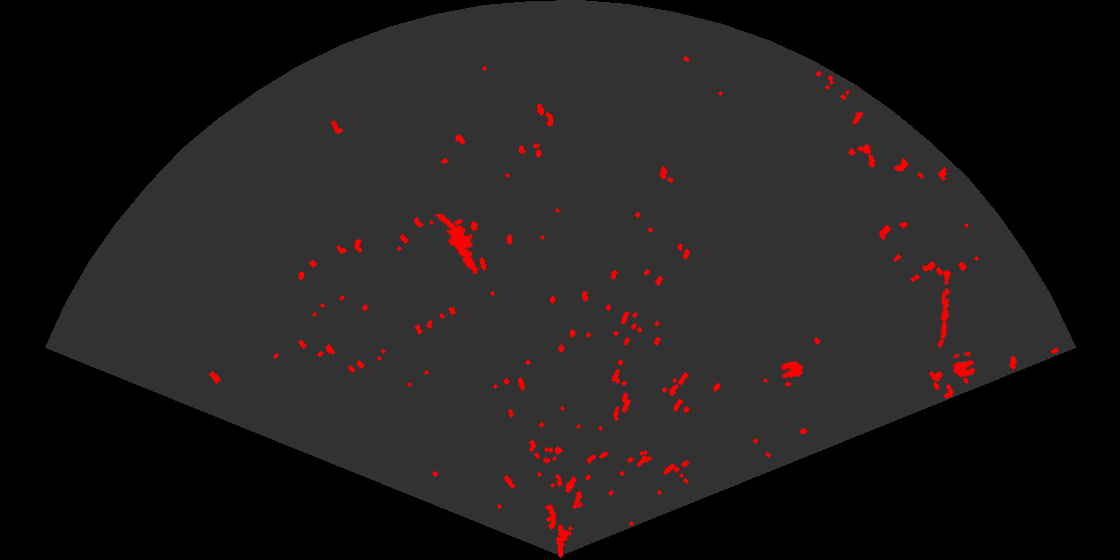ball: (951, 350, 978, 379), (779, 359, 805, 388)
chain: (937, 268, 953, 349)
frogman: (433, 214, 480, 276)
